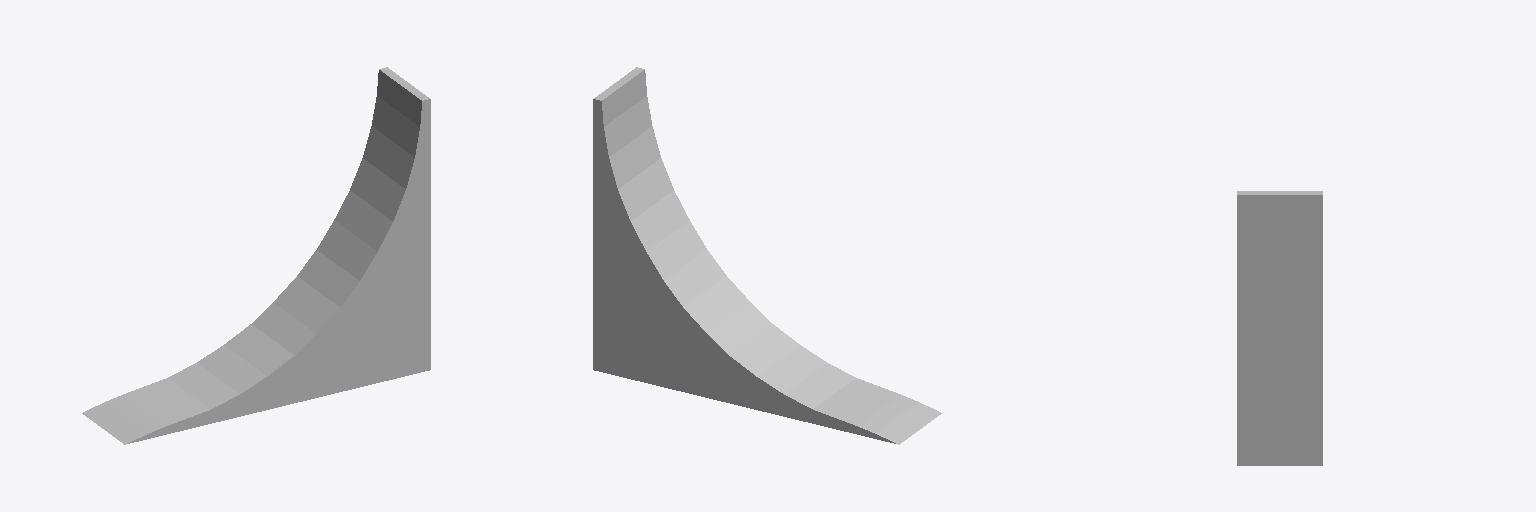
The model's file is Ramp_higher_c_s.obj.
3 views of the same model, side by side, from view 1: azimuth 30°, elevation 25°; view 2: azimuth 150°, elevation 25°; view 3: azimuth 270°, elevation 25° (orthographic).
Visible parts, largest first — view 1: collisonbox_Smooth_Cube.001; view 2: collisonbox_Smooth_Cube.001; view 3: collisonbox_Smooth_Cube.001.
Boxes of the visible parts, box(x1,y1,x2,y2) form: collisonbox_Smooth_Cube.001: box(82, 67, 430, 444); collisonbox_Smooth_Cube.001: box(593, 67, 941, 444); collisonbox_Smooth_Cube.001: box(1237, 191, 1322, 465).
Bounding box in the file's own units: 8.15 × 6.91 × 2.01.